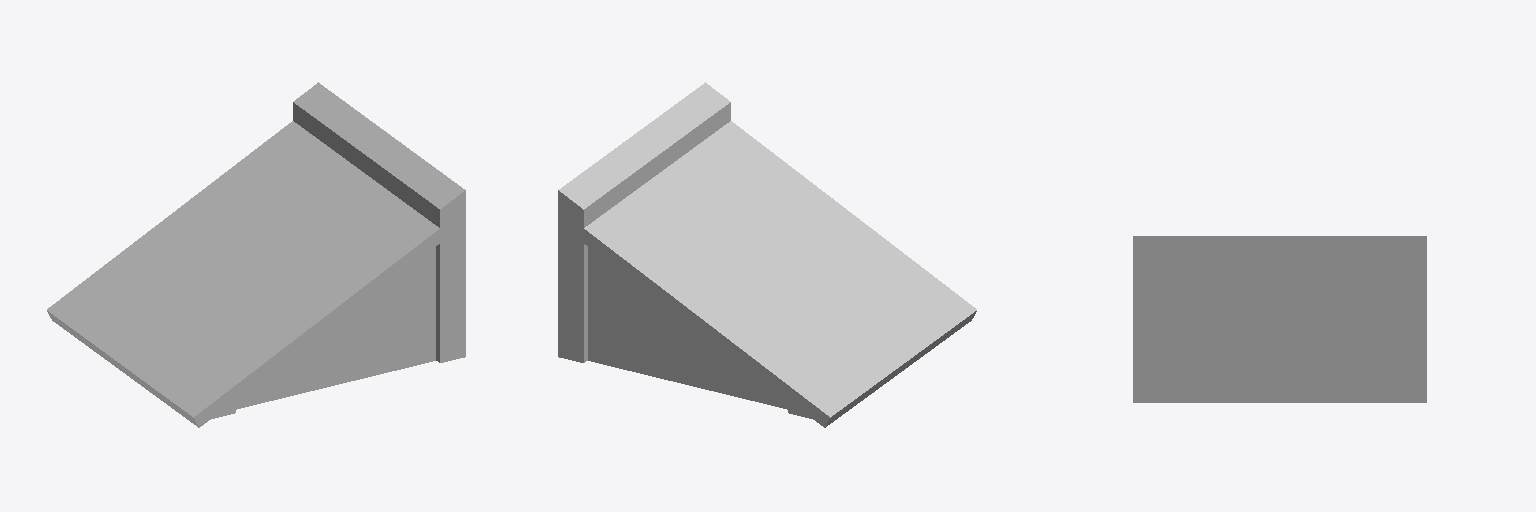
Rendered from roof.obj.
3 renders of one model, left to right at view 1: azimuth 30°, elevation 25°; view 2: azimuth 150°, elevation 25°; view 3: azimuth 270°, elevation 25°, orthographic.
Parts seen in each view (by area): view 1: roof; view 2: roof; view 3: roof.
Part boxes in pixels (left/top/right/bottom): roof: left=47, top=82, right=465, bottom=427; roof: left=558, top=82, right=976, bottom=427; roof: left=1133, top=236, right=1426, bottom=402.
Bounding box in the file's own units: 1.07 × 0.6483 × 1.